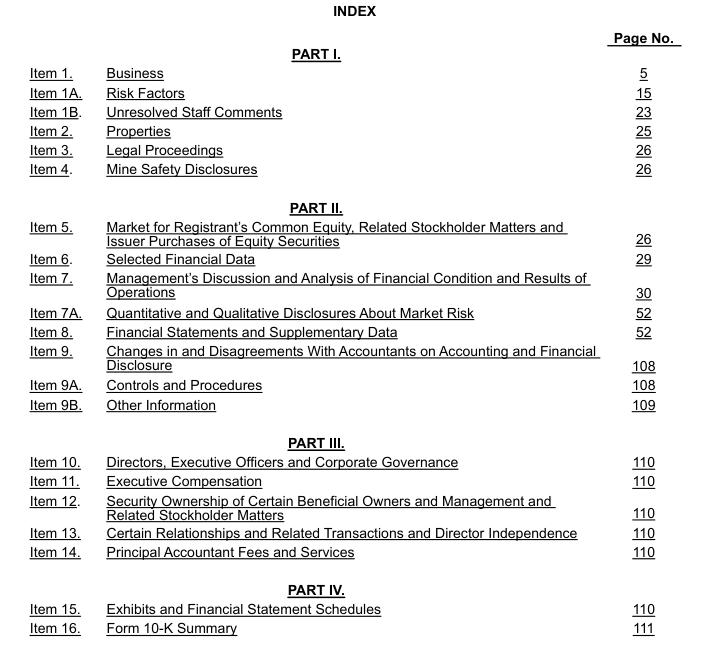table: (28, 28, 672, 635)
table column: (93, 28, 603, 635), (603, 28, 672, 635), (28, 28, 93, 635)
table column header: (28, 28, 672, 44)
table projected row header: (28, 187, 672, 216), (28, 422, 672, 451), (28, 570, 672, 598), (28, 44, 672, 62)
table row: (28, 267, 672, 301), (28, 340, 672, 374), (28, 216, 672, 249), (28, 490, 672, 522), (28, 158, 672, 187), (28, 187, 672, 216), (28, 422, 672, 451), (28, 541, 672, 570), (28, 394, 672, 422), (28, 570, 672, 598), (28, 62, 672, 82), (28, 301, 672, 321), (28, 374, 672, 394), (28, 470, 672, 490), (28, 598, 672, 618), (28, 82, 672, 101), (28, 101, 672, 120), (28, 120, 672, 139), (28, 139, 672, 158), (28, 321, 672, 340), (28, 451, 672, 470), (28, 522, 672, 541), (28, 44, 672, 62), (28, 249, 672, 267), (28, 618, 672, 635), (28, 28, 672, 44)
